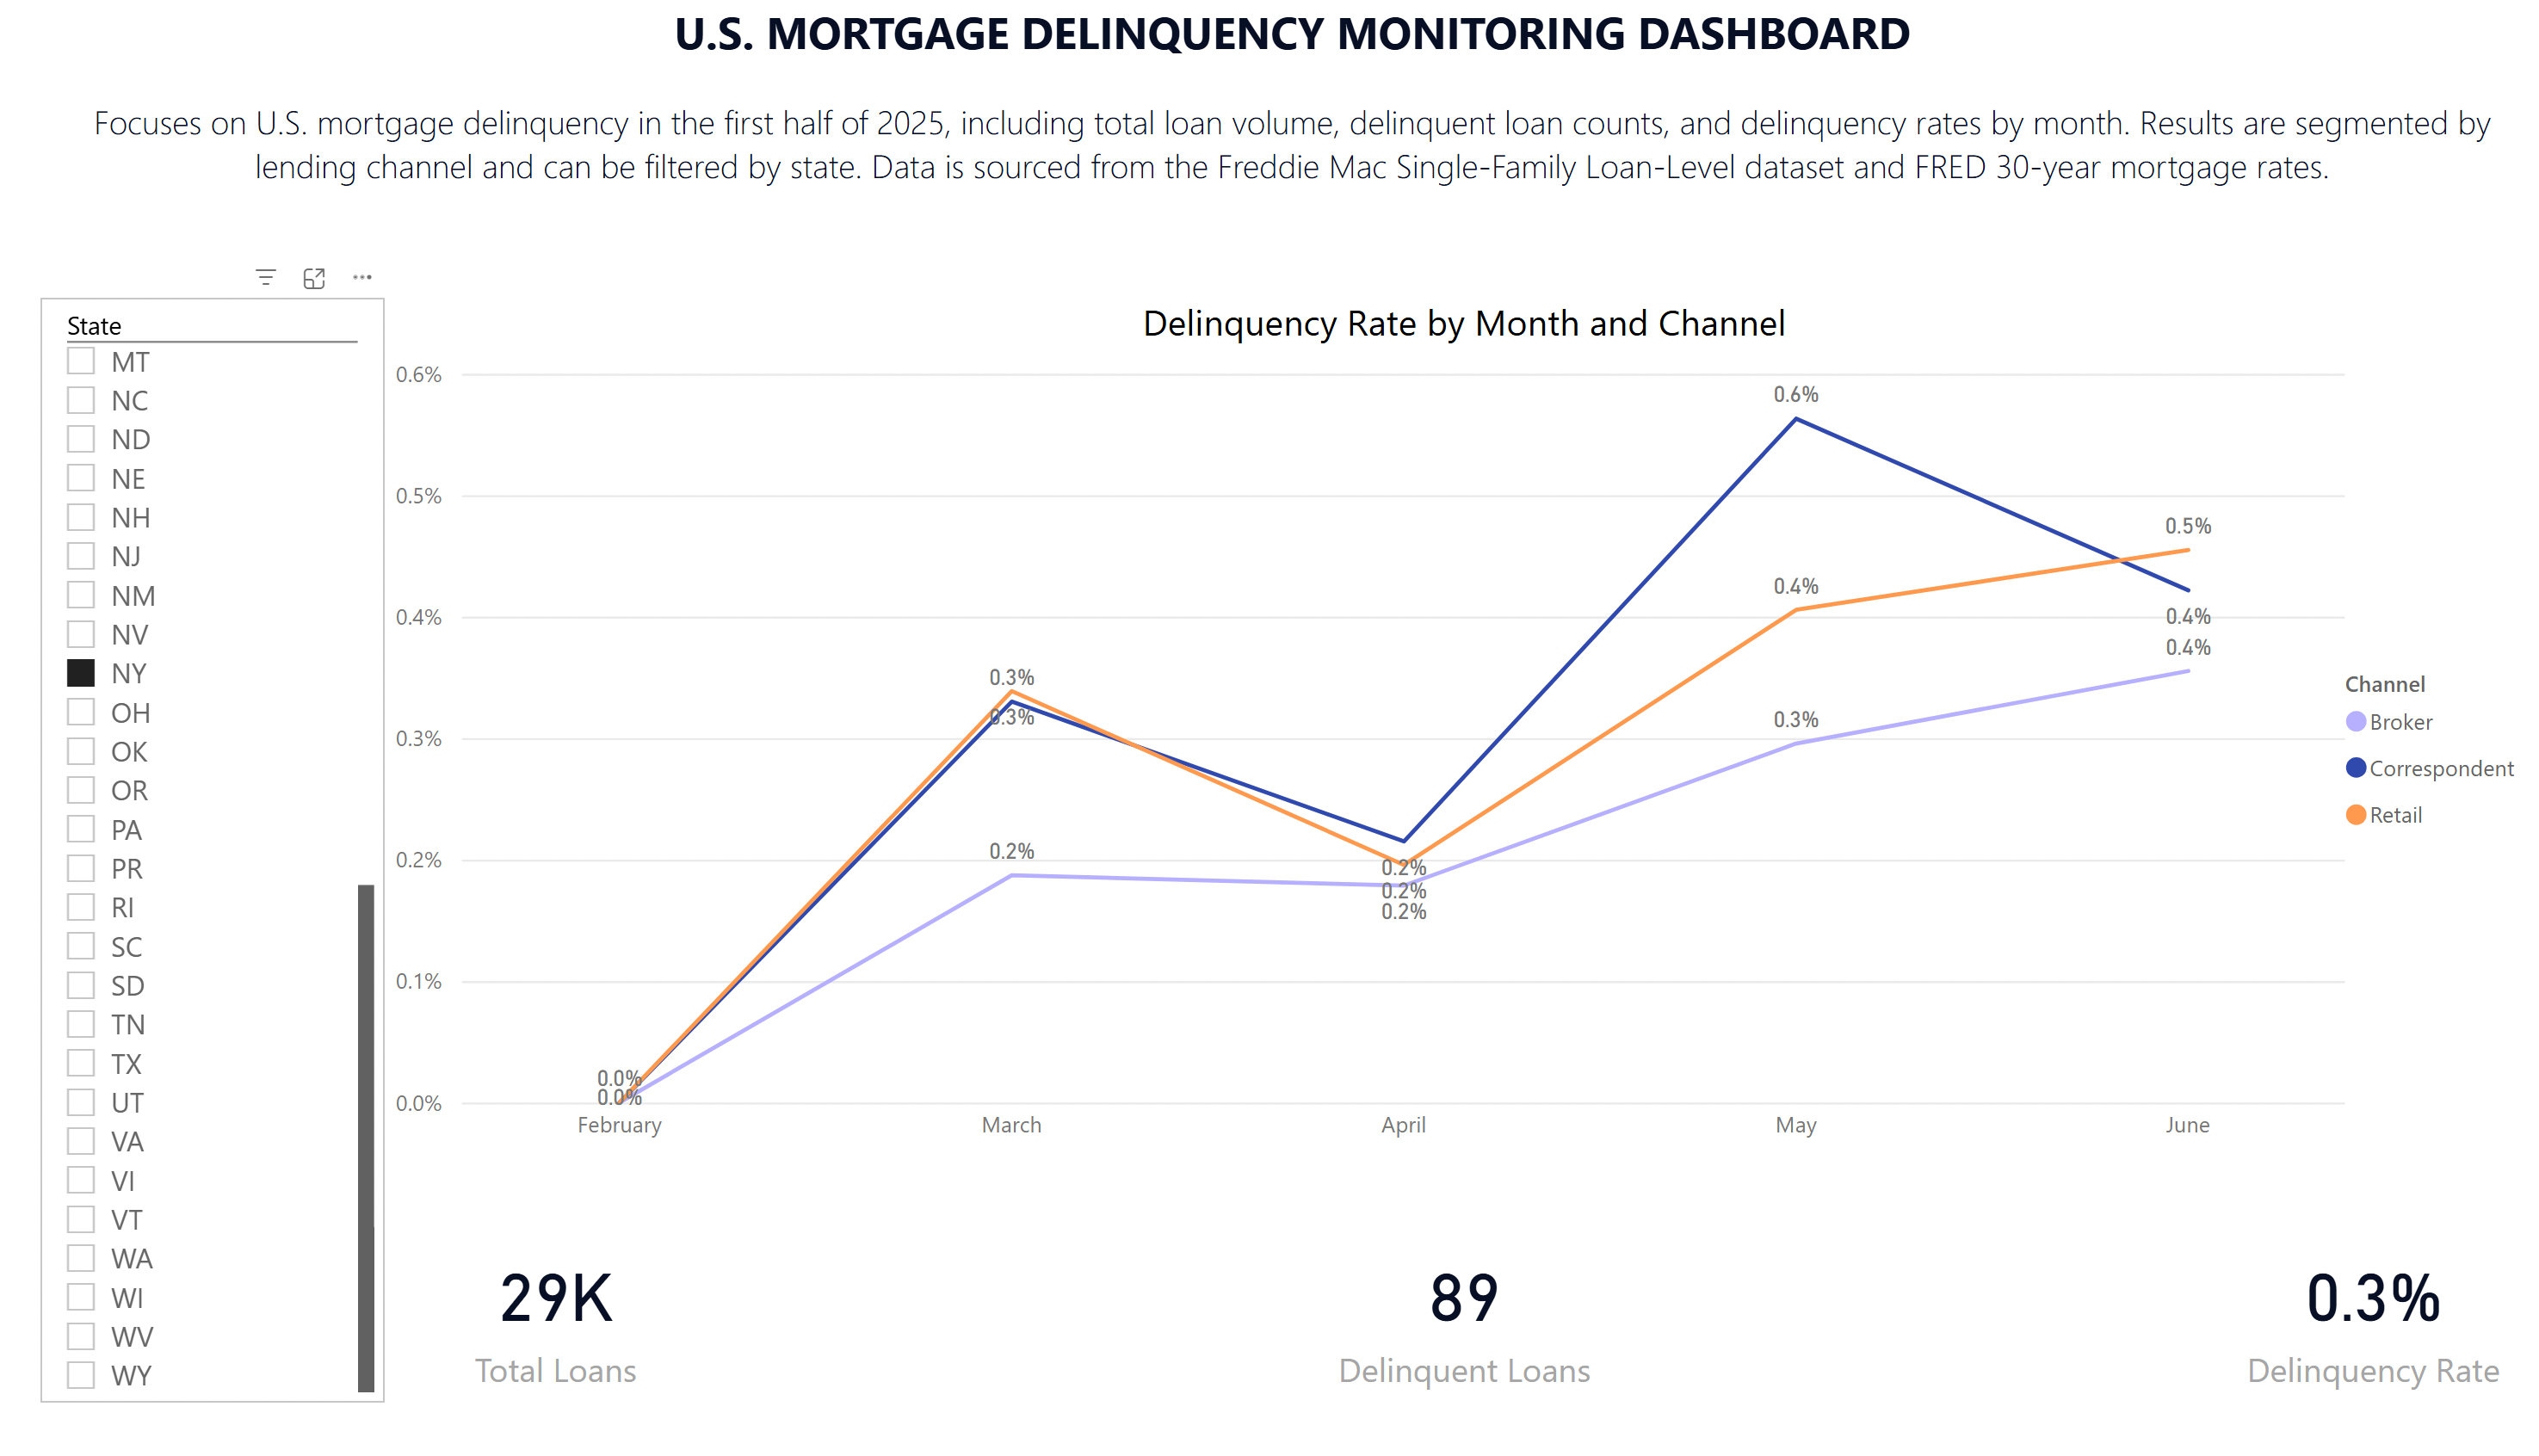

This screenshot's page, from the dashboard's own definition file:
{"tool":"powerbi","page":{"name":"Page 1","canvas":[1280,720],"ordinal":0},"visuals":[{"type":"lineChart","title":"Delinquency Rate by Month and Channel","fields":{"Category":["fct_delinquency_monthly.reporting_month.Variation.Date Hierarchy.Year","fct_delinquency_monthly.reporting_month.Variation.Date Hierarchy.Quarter","fct_delinquency_monthly.reporting_month.Variation.Date Hierarchy.Month","fct_delinquency_monthly.reporting_month.Variation.Date Hierarchy.Day"],"Y":["fct_delinquency_monthly.Delinquency Rate"],"Series":["fct_delinquency_monthly.Channel Full"]},"box":[228,149.6,1051.6,419.9],"z":0},{"type":"slicer","fields":{"Values":["fct_delinquency_monthly.property_state"]},"box":[60.4,149.6,167.6,538],"z":1000},{"type":"card","fields":{"Values":["fct_delinquency_monthly.Delinquent Loans"]},"box":[659.6,569.5,188.3,150.5],"z":2000},{"type":"card","fields":{"Values":["fct_delinquency_monthly.Total Loans"]},"box":[228,569.5,166.7,150.5],"z":3000},{"type":"card","fields":{"Values":["fct_delinquency_monthly.Delinquency Rate"]},"box":[1112.9,569.5,166.7,150.5],"z":4000},{"type":"textbox","box":[60.4,0,1219.2,149.6],"z":5000}]}

Visuals, with their boxes in screenshot pixels (x1, y1, x2, y2), scaled from the page's 1280x720 canvas onto the 2539x1456 screenshot:
"Delinquency Rate by Month and Channel" lineChart: bbox(452, 303, 2538, 1151)
slicer - fct_delinquency_monthly.property_state: bbox(120, 303, 452, 1391)
card - fct_delinquency_monthly.Delinquent Loans: bbox(1308, 1151, 1682, 1455)
card - fct_delinquency_monthly.Total Loans: bbox(452, 1151, 783, 1455)
card - fct_delinquency_monthly.Delinquency Rate: bbox(2208, 1151, 2538, 1455)
textbox: bbox(120, 0, 2538, 303)
